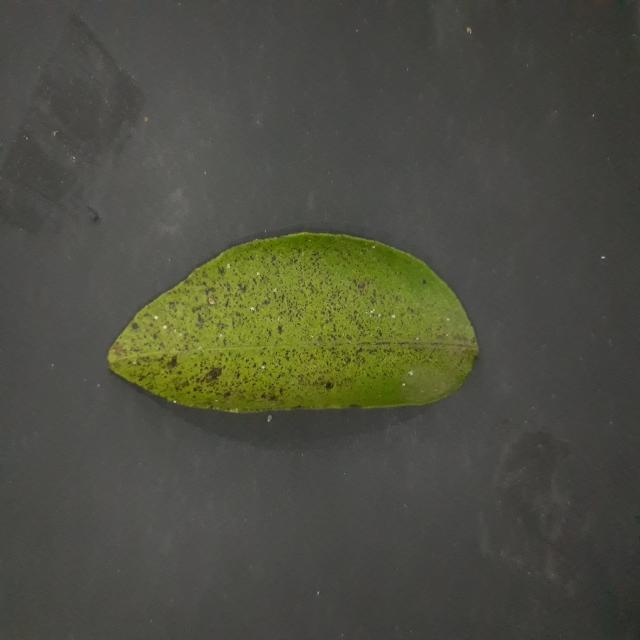greasy_spot: (108, 233, 478, 412)
